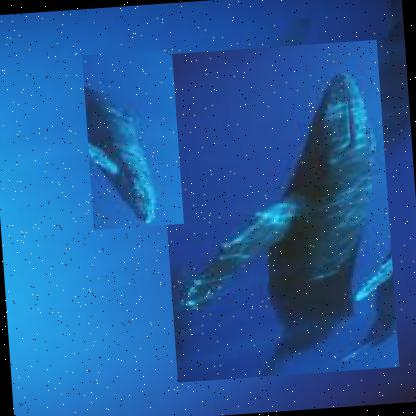blue_whale: (155, 39, 400, 382), (82, 48, 185, 230)
